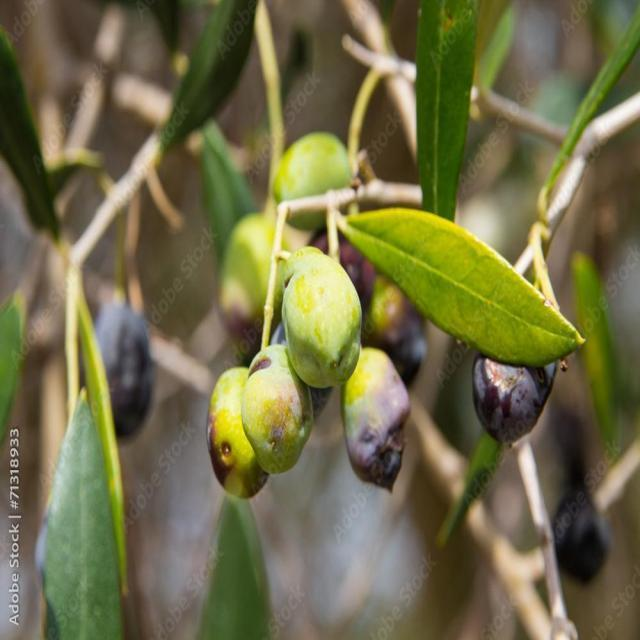Anthracnose: (342, 348, 409, 492), (242, 345, 313, 474), (206, 366, 268, 496), (470, 355, 558, 445)
